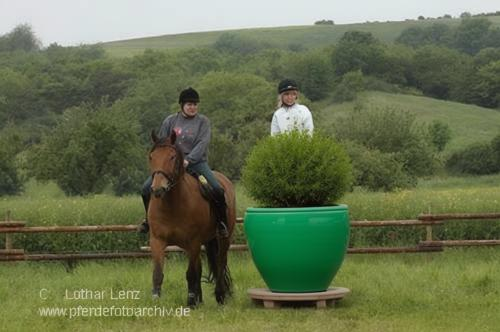horse: (143, 129, 238, 306)
person: (256, 78, 343, 237), (139, 87, 230, 239)
person/foot: (217, 222, 228, 237), (137, 222, 149, 234), (327, 222, 340, 233)
person/hand: (289, 154, 303, 168), (183, 159, 188, 168)
person/head: (180, 88, 200, 118), (280, 82, 297, 106)
pottedplant: (242, 117, 352, 308)
